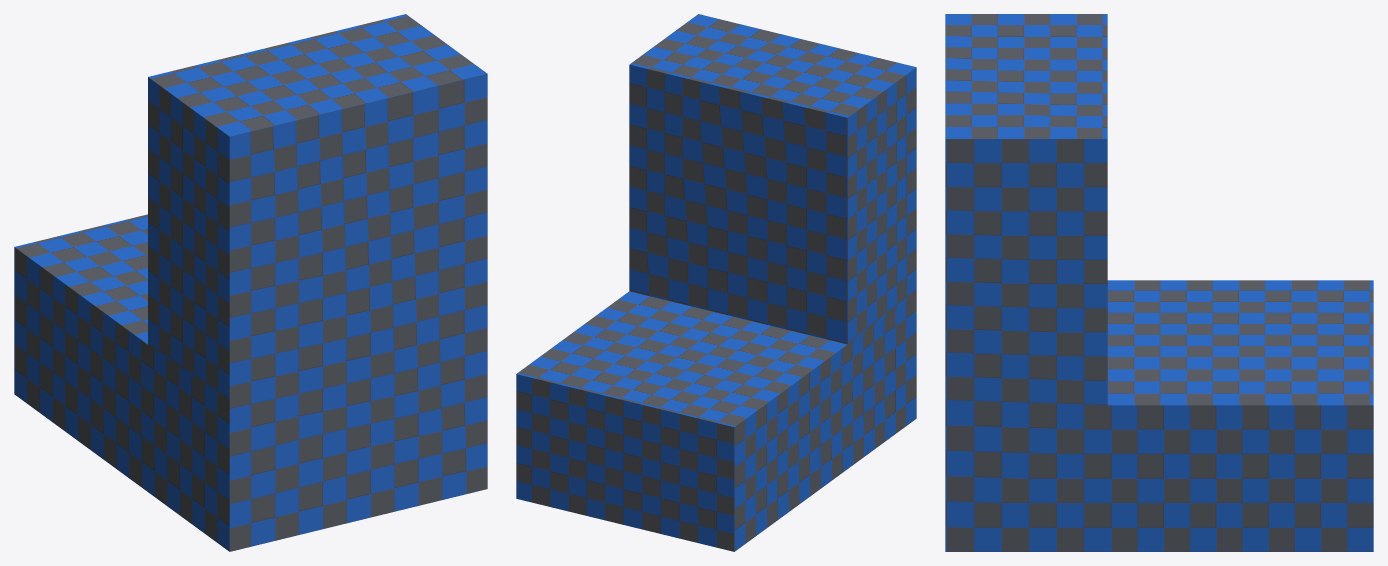
File: Lblock.obj
3 renders of one model, left to right at view 1: azimuth 30°, elevation 25°; view 2: azimuth 150°, elevation 25°; view 3: azimuth 270°, elevation 25°, orthographic. The views are drawn at different scales.
Visible parts, largest first — view 1: Cube; view 2: Cube; view 3: Cube.
Part boxes in pixels (bbox=[...]): Cube: bbox=[14, 14, 487, 551]; Cube: bbox=[516, 14, 916, 551]; Cube: bbox=[945, 14, 1373, 551].
Size of the model in its own units: 5.03 by 7.74 by 7.28.
